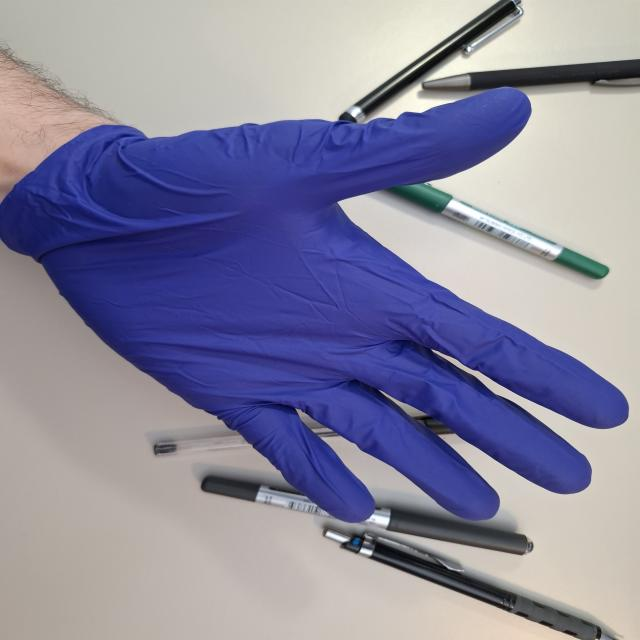glove_on: (0, 83, 632, 526)
